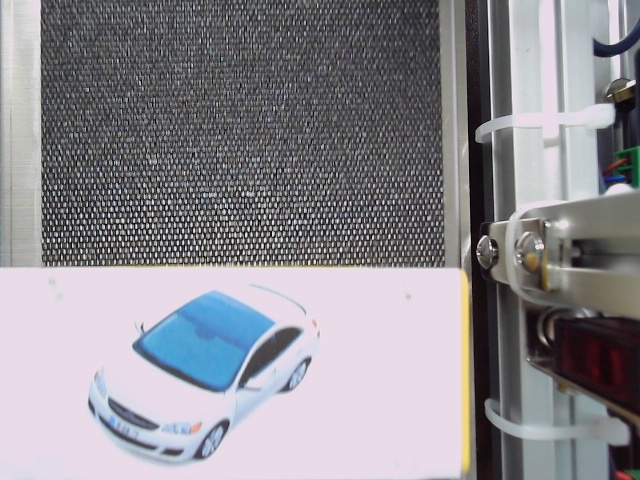car: (74, 279, 322, 470)
